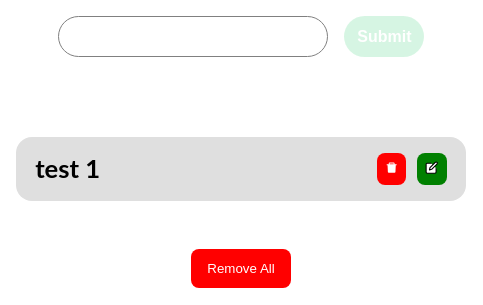
Test case: input form events › change input value submitBtn will active
In the field with test id "input": (193, 36) [58, 16, 328, 57], type "test"
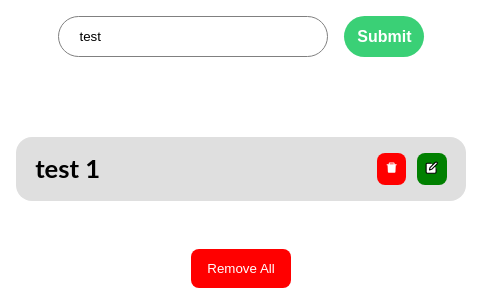
Now the button "Submit" is enabled, box [344, 16, 424, 57]
